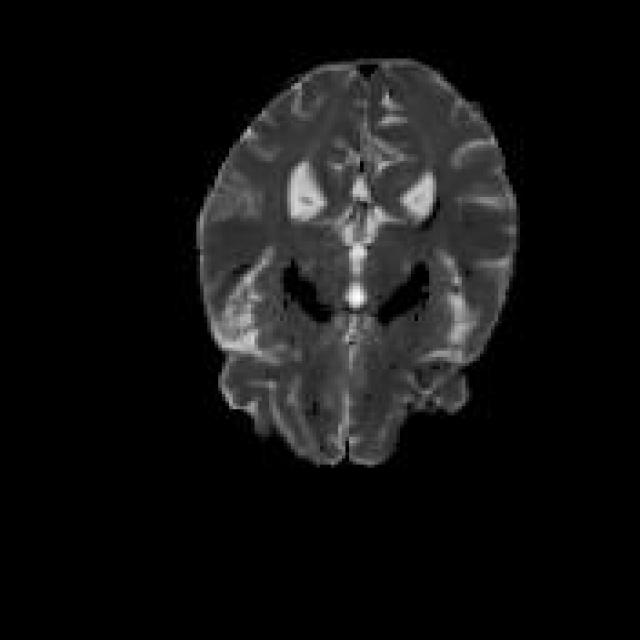CONTROL: (193, 55, 520, 468)
